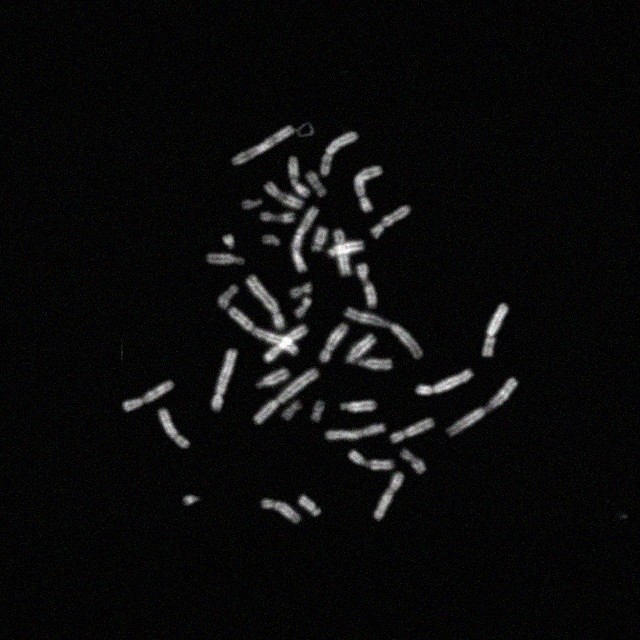chromosome: (446, 378, 518, 437), (346, 308, 424, 359), (254, 368, 318, 424), (228, 307, 298, 355), (232, 127, 294, 165), (247, 275, 285, 329), (320, 130, 358, 176), (292, 206, 318, 272), (415, 368, 473, 396), (266, 324, 308, 362), (122, 381, 173, 412), (482, 302, 510, 358), (372, 471, 403, 521), (212, 349, 236, 411), (371, 206, 412, 238), (354, 166, 382, 212), (157, 409, 189, 448), (391, 416, 435, 444), (318, 323, 348, 363), (264, 182, 302, 208), (325, 423, 385, 439), (288, 157, 310, 199), (348, 450, 394, 470), (358, 262, 378, 308), (346, 333, 376, 362), (262, 500, 300, 522), (334, 229, 352, 275), (328, 240, 364, 258), (400, 450, 426, 474), (256, 369, 290, 387), (307, 172, 327, 196), (358, 357, 392, 371), (207, 254, 245, 266), (340, 400, 376, 412), (218, 286, 237, 308), (312, 226, 328, 252), (260, 212, 294, 224), (300, 496, 320, 516), (294, 297, 312, 319), (283, 402, 302, 421), (291, 282, 311, 298), (311, 402, 324, 422), (242, 198, 262, 210), (262, 235, 280, 247), (223, 234, 235, 250), (184, 494, 198, 506)
